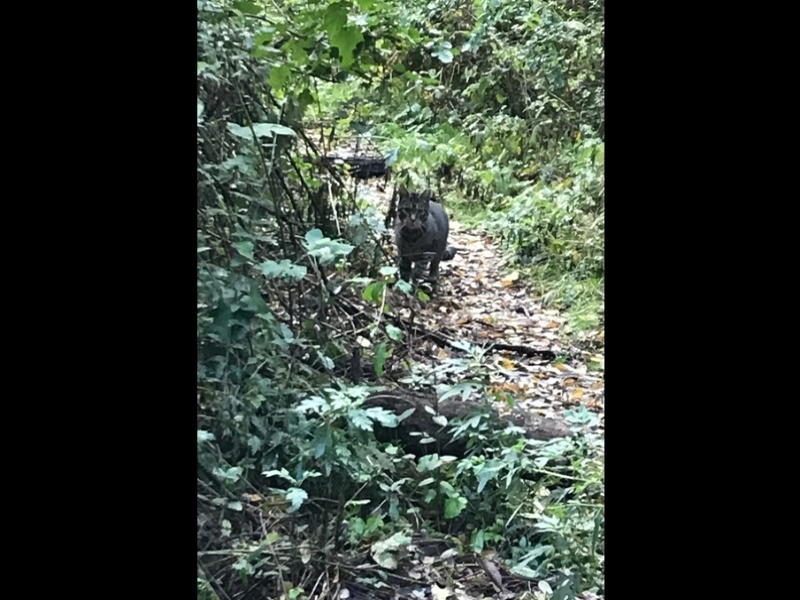cat: (386, 186, 459, 291)
